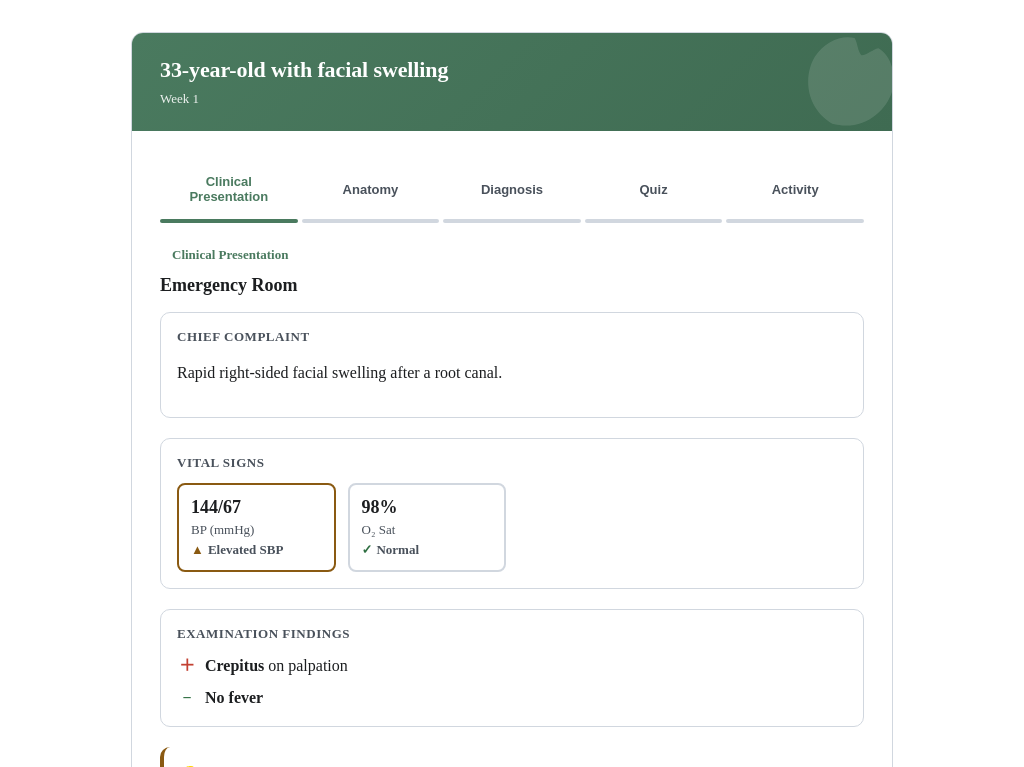
ClinicalCase › submits the quiz score (raw correct / max questions) once all answered
Click the button "Quiz".
click(654, 189)  # box left=585, top=167, right=722, bottom=211
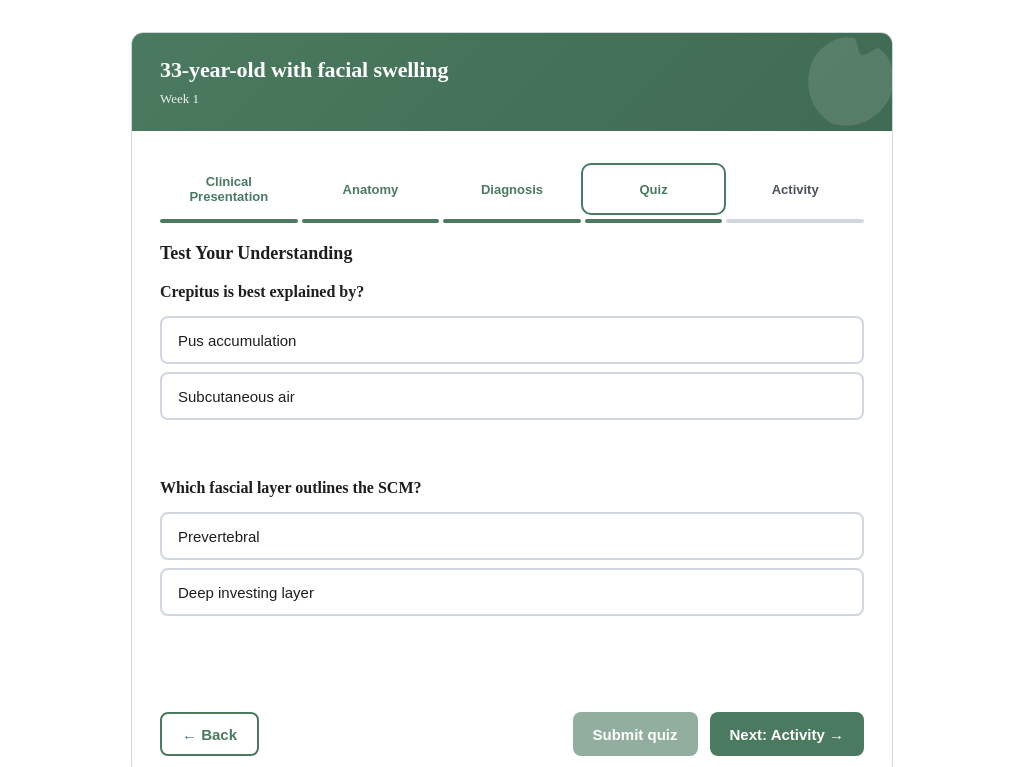
# Answer q1 correctly, q2 incorrectly.
Click the button "Subcutaneous air".
click(236, 396)  # box left=160, top=372, right=864, bottom=420
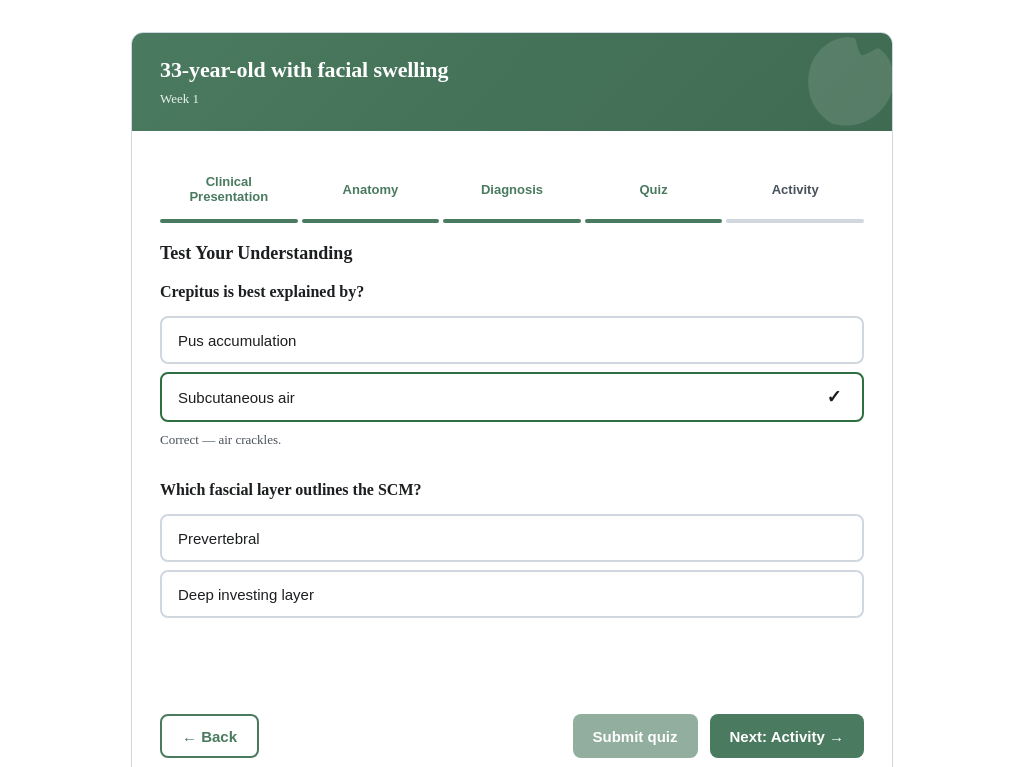
Click the button "Prevertebral".
click(219, 538)  # box left=160, top=514, right=864, bottom=562
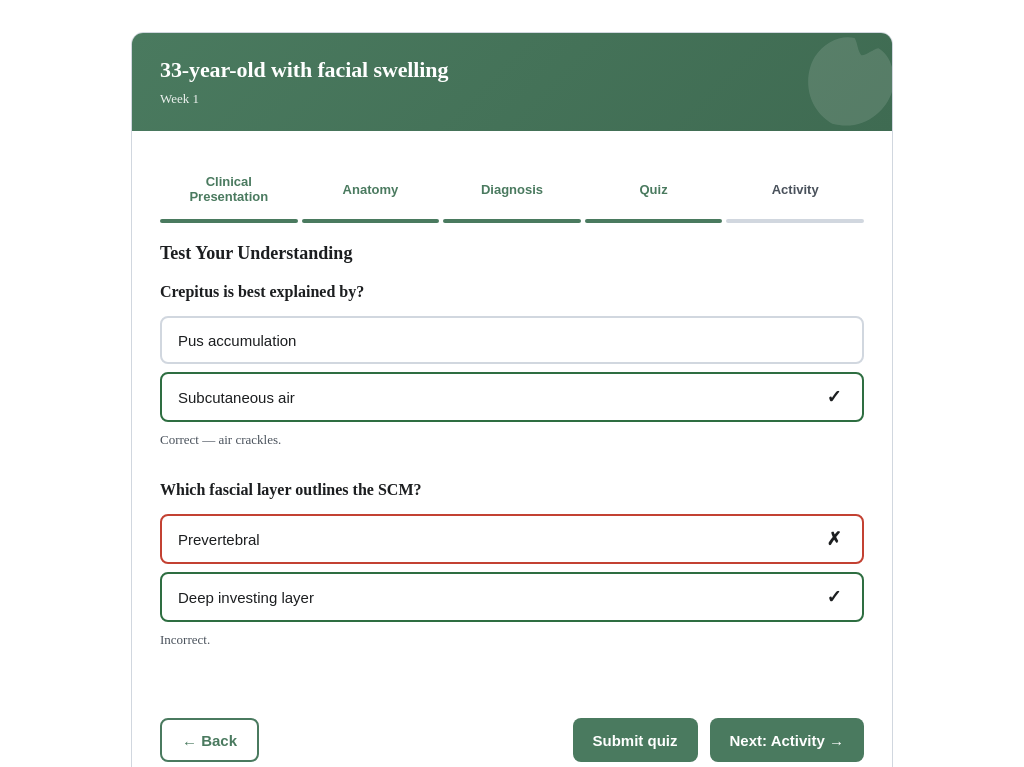
Click the button "Submit quiz".
click(635, 740)  # box left=572, top=718, right=698, bottom=762
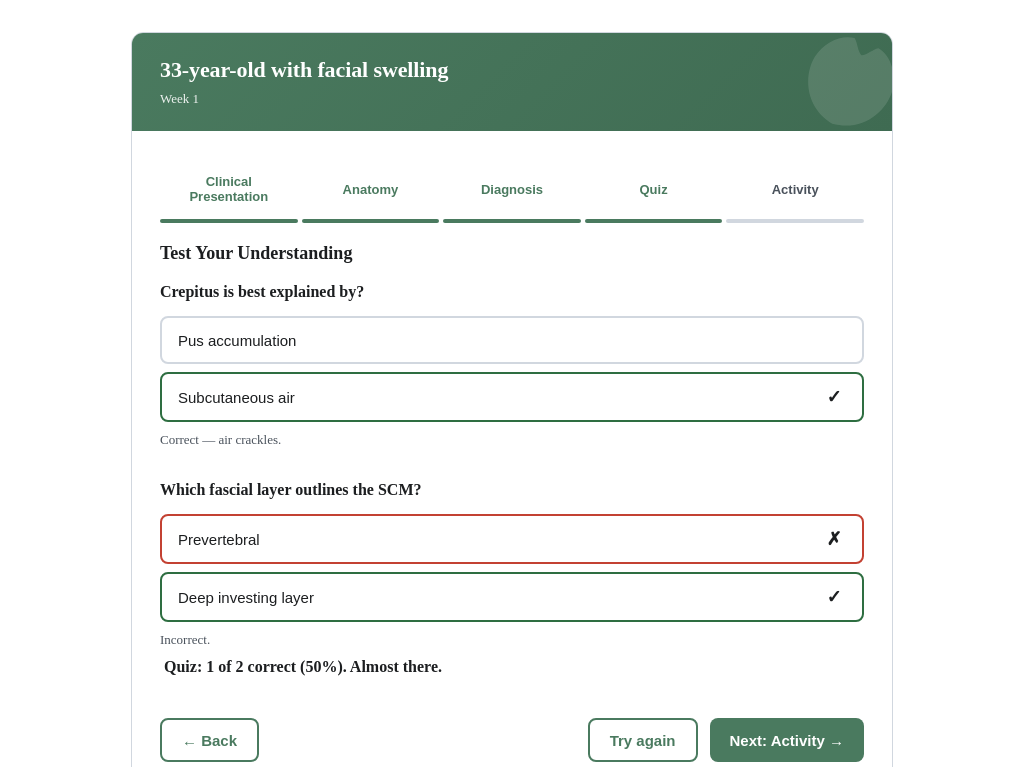
Expected: the text "Quiz: 1 of 2 correct (50%). Almost there." is shown, left=164, top=658, right=442, bottom=675
